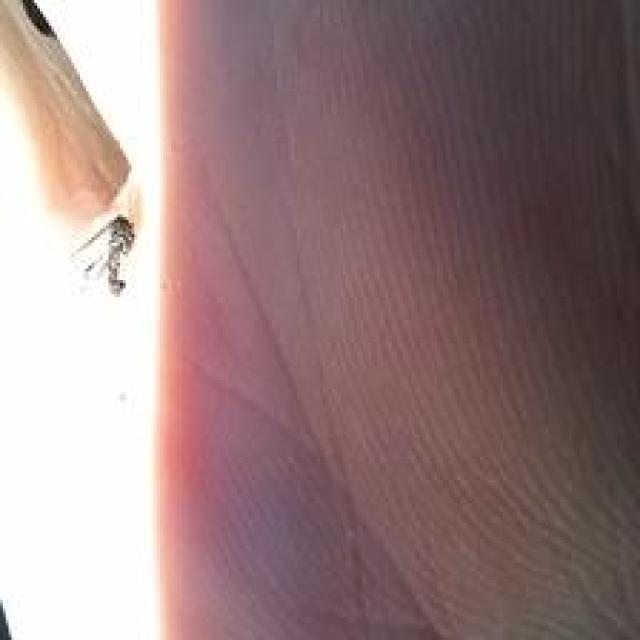Aedes albopictus: (0, 0, 140, 297)
